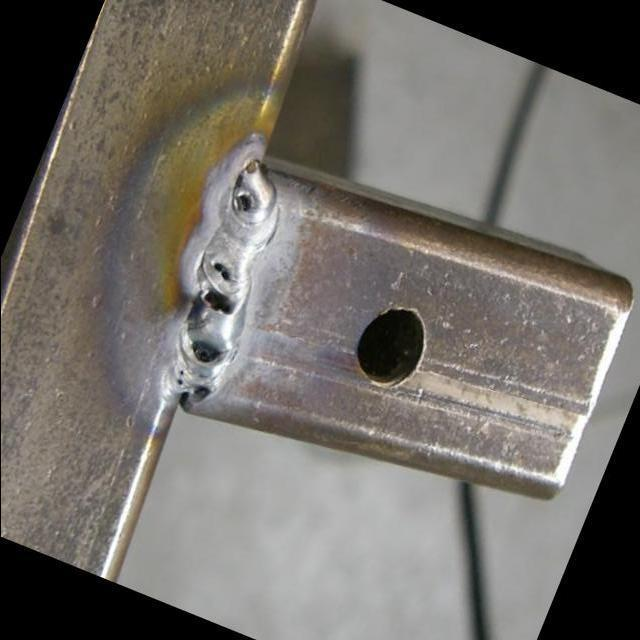defect: (198, 288, 235, 320), (187, 336, 223, 368), (210, 257, 235, 284), (232, 190, 253, 214), (189, 380, 211, 400), (175, 366, 187, 388)
